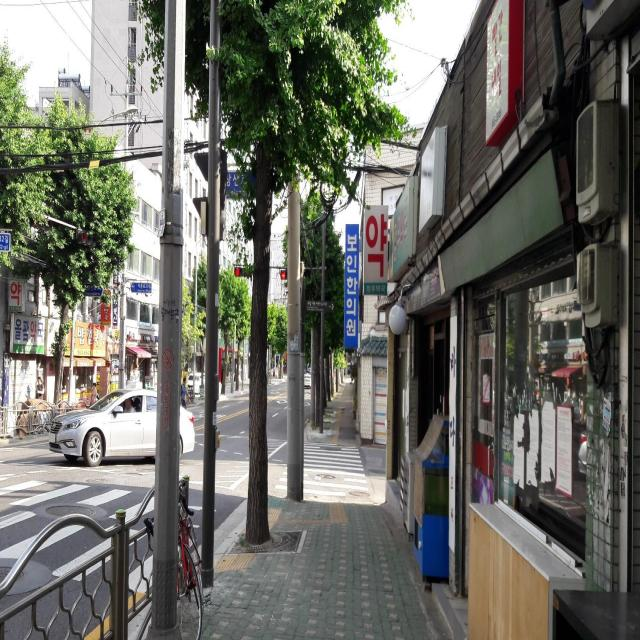횡단보도: (274, 442, 369, 498)
